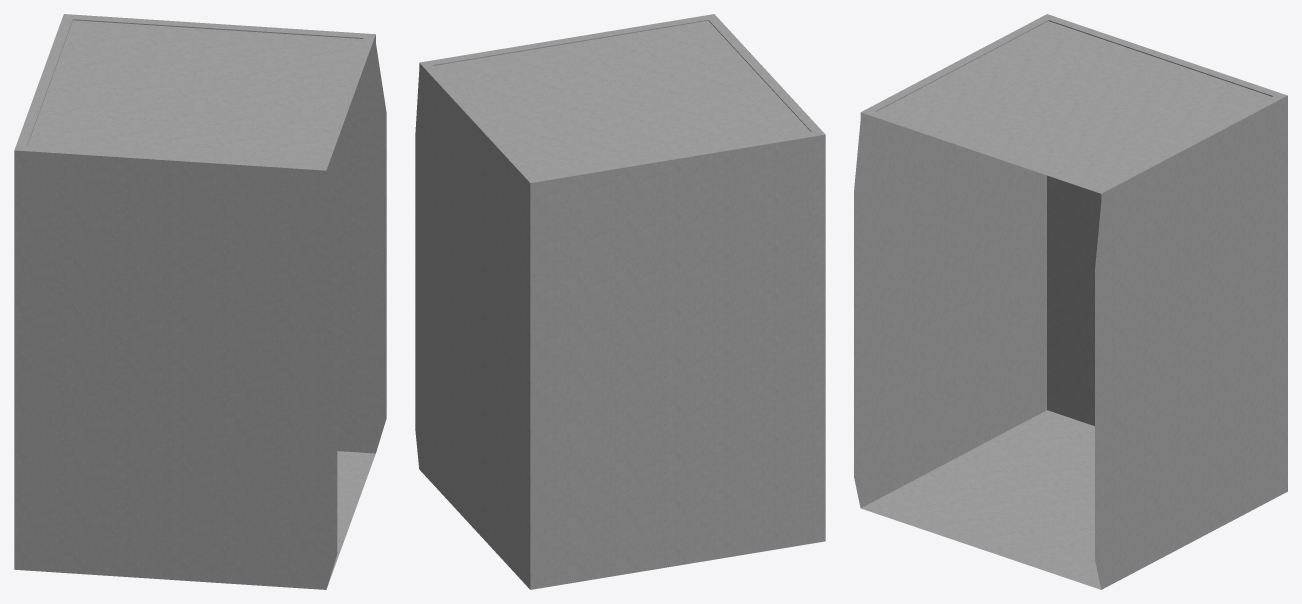
Rendered from washing_machine.gltf.
3 views of the same model, side by side, from view 1: azimuth 30°, elevation 25°; view 2: azimuth 150°, elevation 25°; view 3: azimuth 270°, elevation 25° (orthographic). The views are drawn at different scales.
Visible parts, largest first — view 1: Mesh240_Colore_lavatrice_0; view 2: Mesh240_Colore_lavatrice_0; view 3: Mesh240_Colore_lavatrice_0.
Boxes of the visible parts, x1,y1,x2,y2 form: Mesh240_Colore_lavatrice_0: (14, 14, 386, 589); Mesh240_Colore_lavatrice_0: (415, 14, 825, 589); Mesh240_Colore_lavatrice_0: (854, 14, 1287, 589).
Bounding box in the file's own units: 7.61 × 7.67 × 7.61.
1 material, 1 textured.
